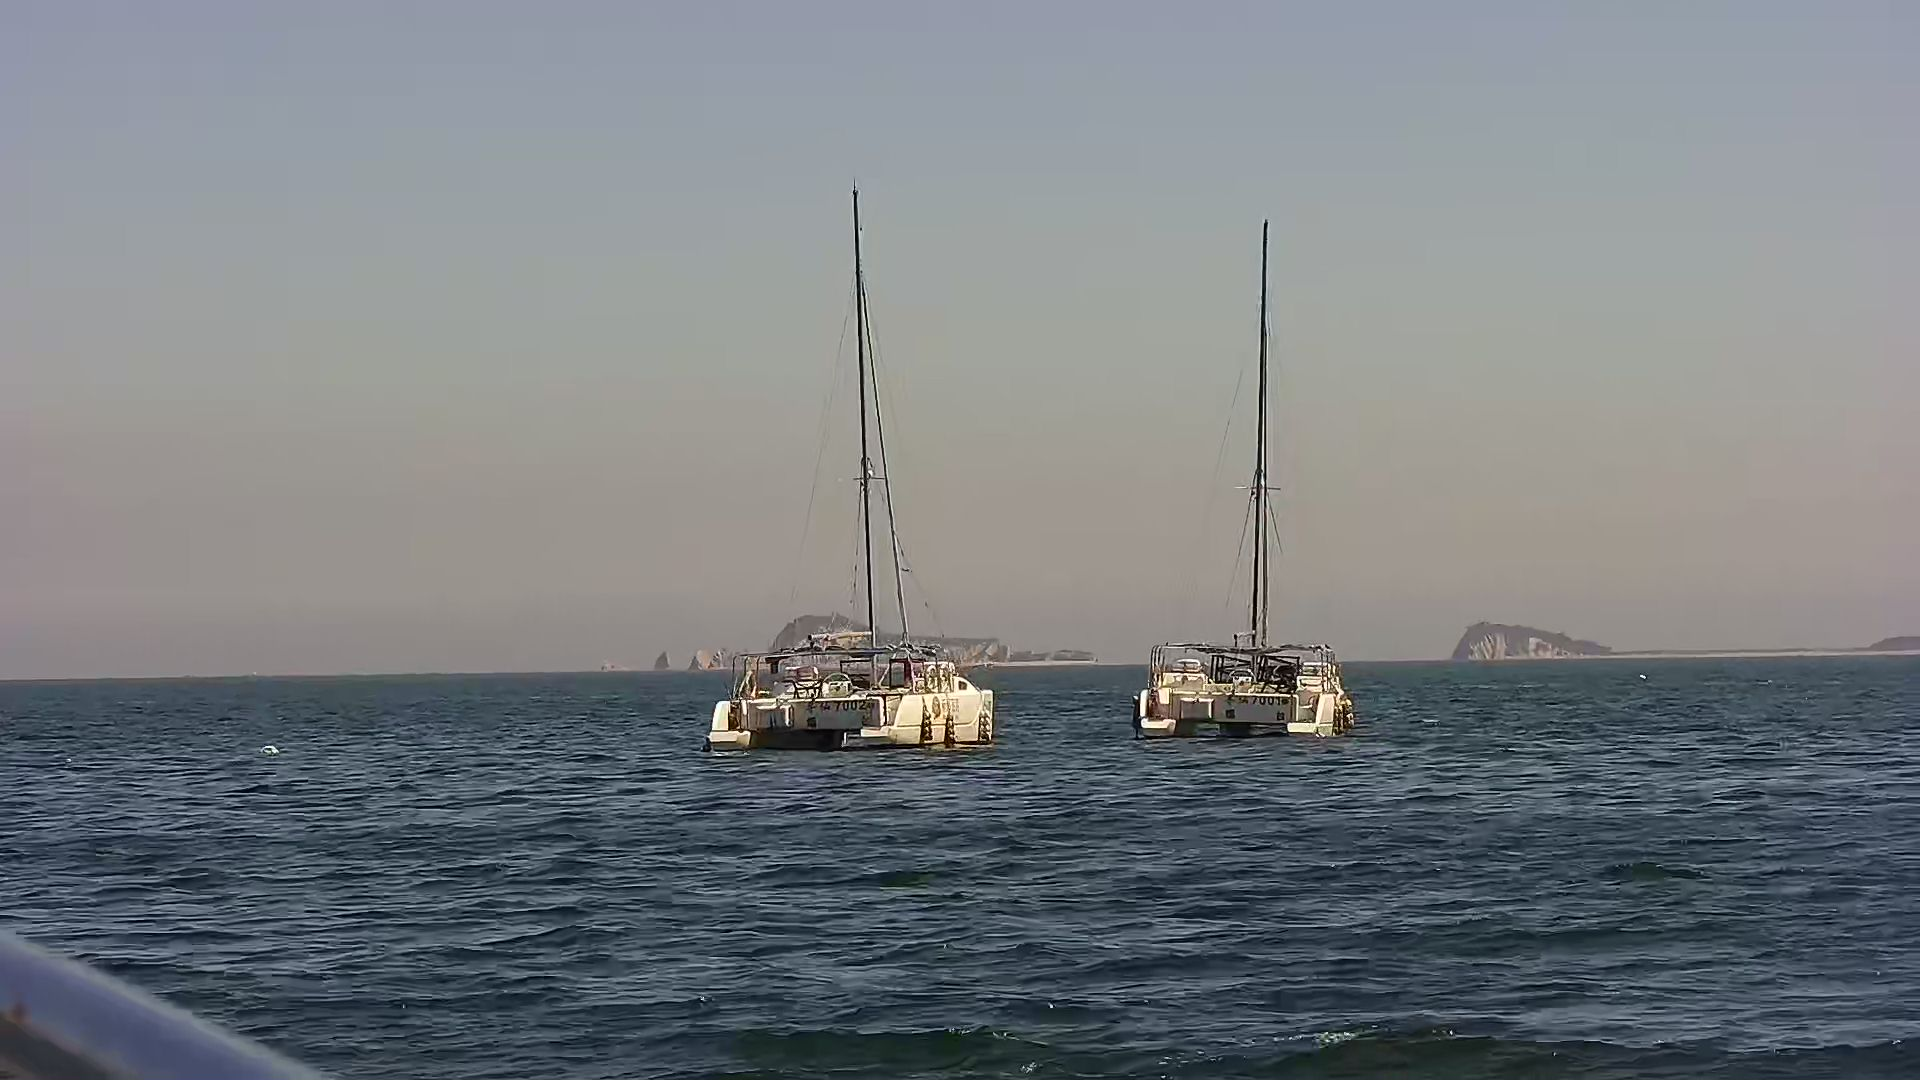boat: (688, 177, 1000, 762), (1121, 215, 1377, 744)
rock: (705, 603, 1096, 673), (1439, 621, 1667, 658), (646, 637, 698, 674)
